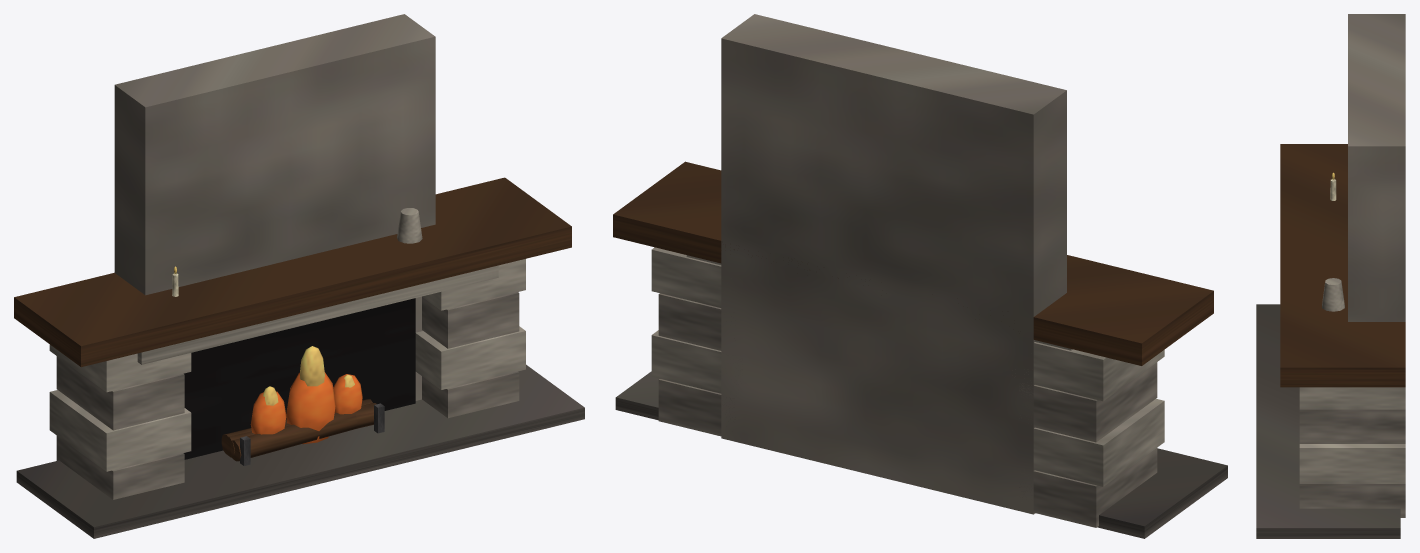
The model's file is fireplace.obj.
3 renders of one model, left to right at view 1: azimuth 30°, elevation 25°; view 2: azimuth 150°, elevation 25°; view 3: azimuth 270°, elevation 25°, orthographic. The views are drawn at different scales.
Size of the model in its own units: 22 by 16.02 by 6.2.
Materials: 1 (1 with a texture image).
